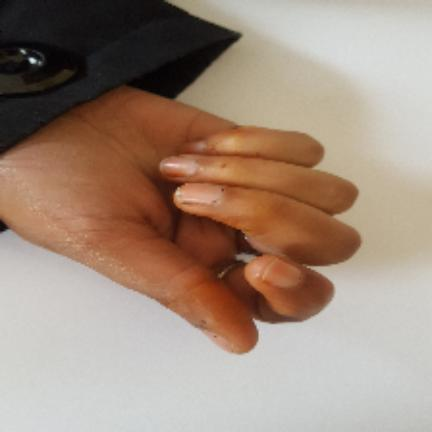Nail: (262, 258, 304, 288), (174, 183, 225, 205), (201, 329, 235, 353), (160, 158, 197, 177), (180, 143, 206, 153)
